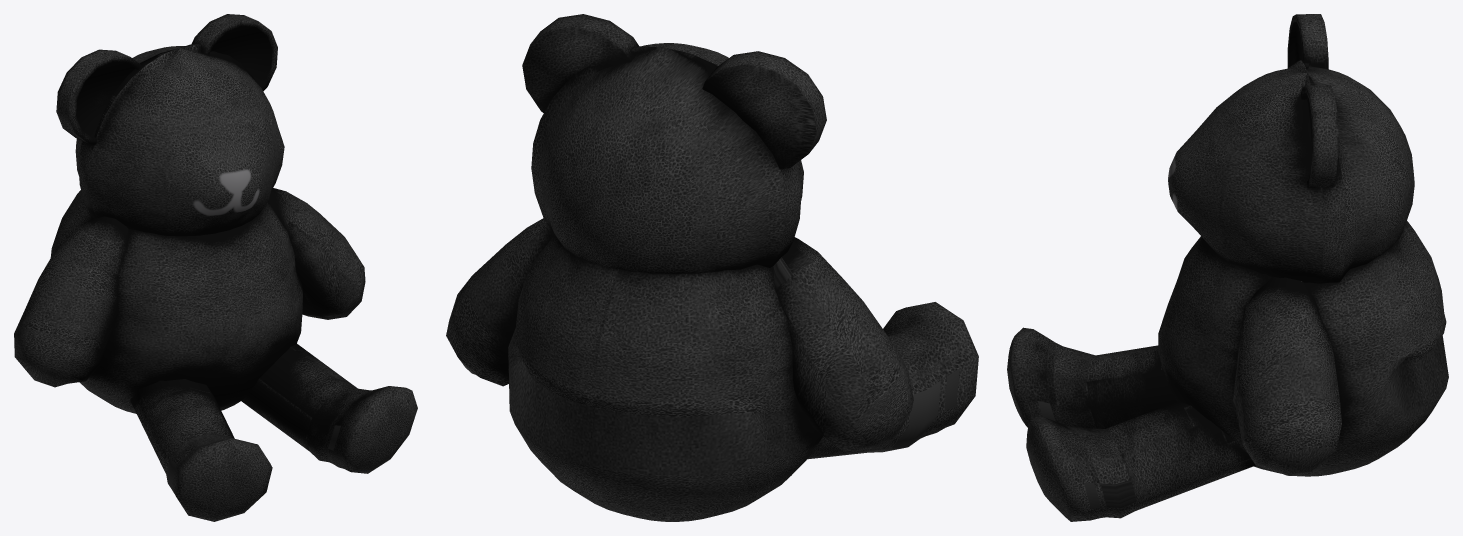
File: teddy_textures.fbx
The picture shows the model from 3 angles, left to right: view 1: azimuth 30°, elevation 25°; view 2: azimuth 150°, elevation 25°; view 3: azimuth 270°, elevation 25°; orthographic projection. The views are drawn at different scales.
Visible parts, largest first — view 1: Sphere001; view 2: Sphere001; view 3: Sphere001.
Part boxes in pixels (left/top/right/bottom): Sphere001: left=14, top=14, right=417, bottom=521; Sphere001: left=446, top=14, right=978, bottom=521; Sphere001: left=1007, top=14, right=1448, bottom=521.
Size of the model in its own units: 29.94 by 31.38 by 30.
1 material, 1 textured.
